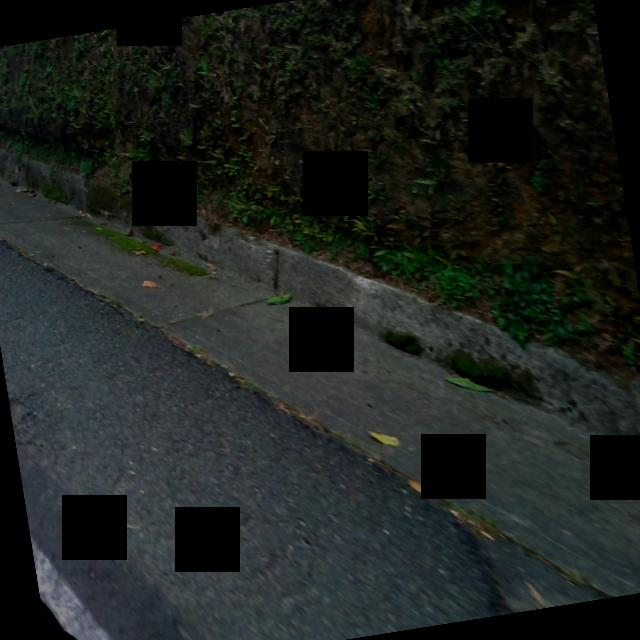DITCH: (0, 63, 640, 640), (0, 64, 640, 640)
